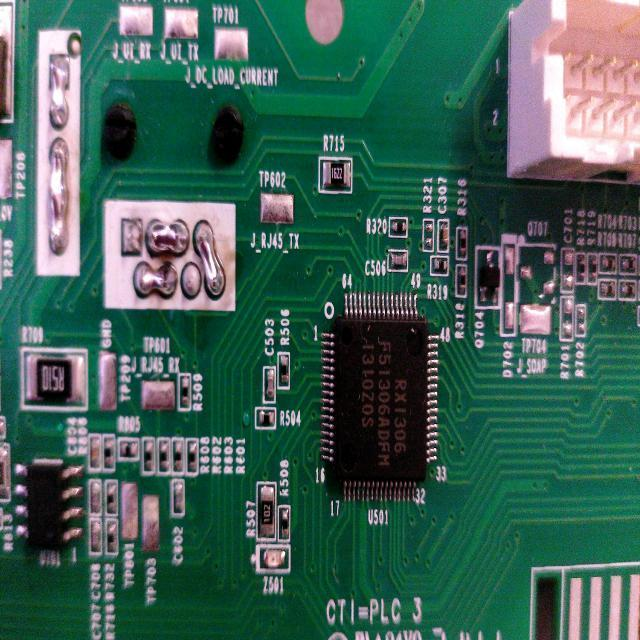Soldering shorted: (46, 137, 73, 255), (194, 216, 229, 302), (130, 260, 182, 304), (44, 56, 71, 130), (146, 217, 190, 258)
